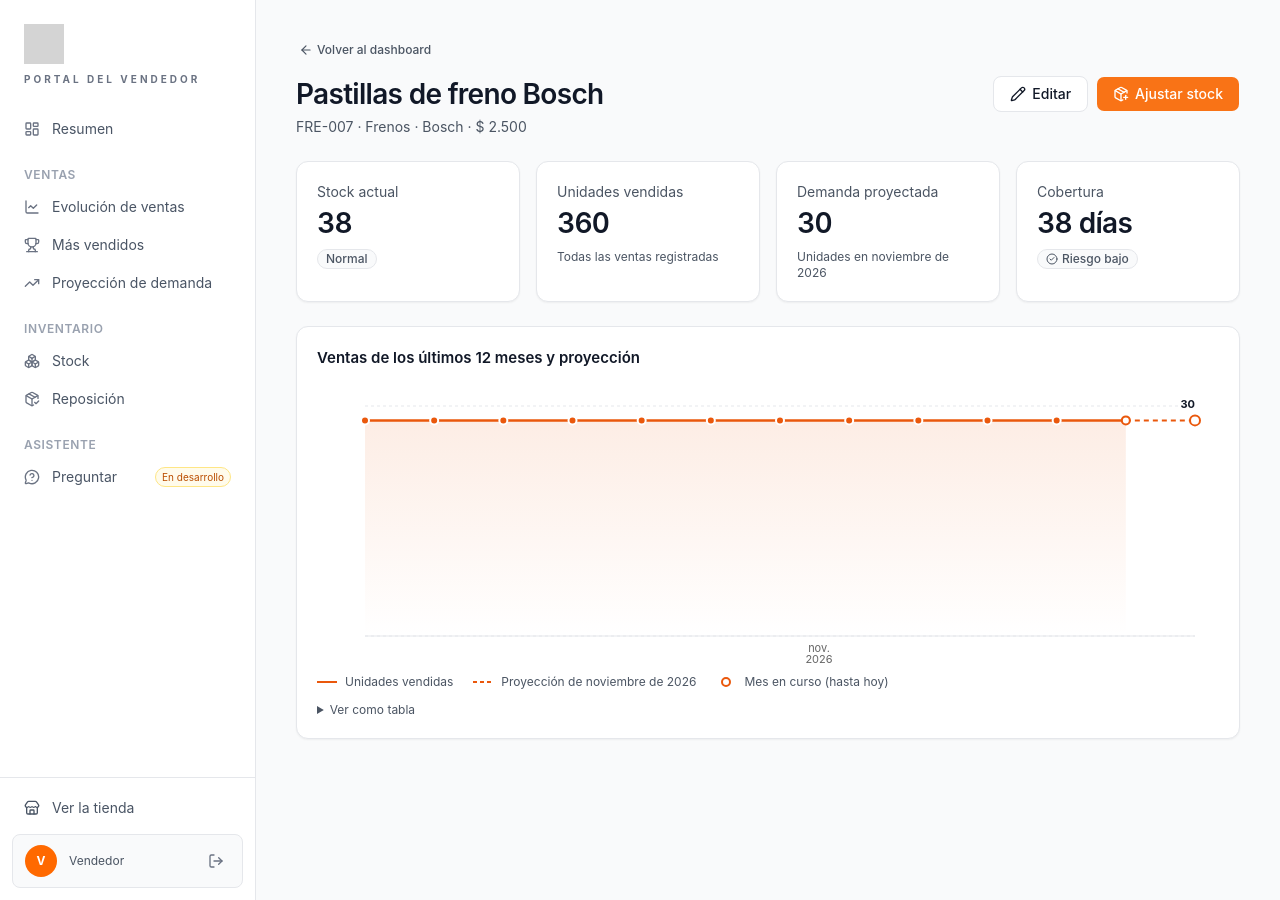
adjusts the stock from 38 to 50 and reloads the part
Click the button "Ajustar stock".
click(1168, 94)  # box [1096,76,1240,112]
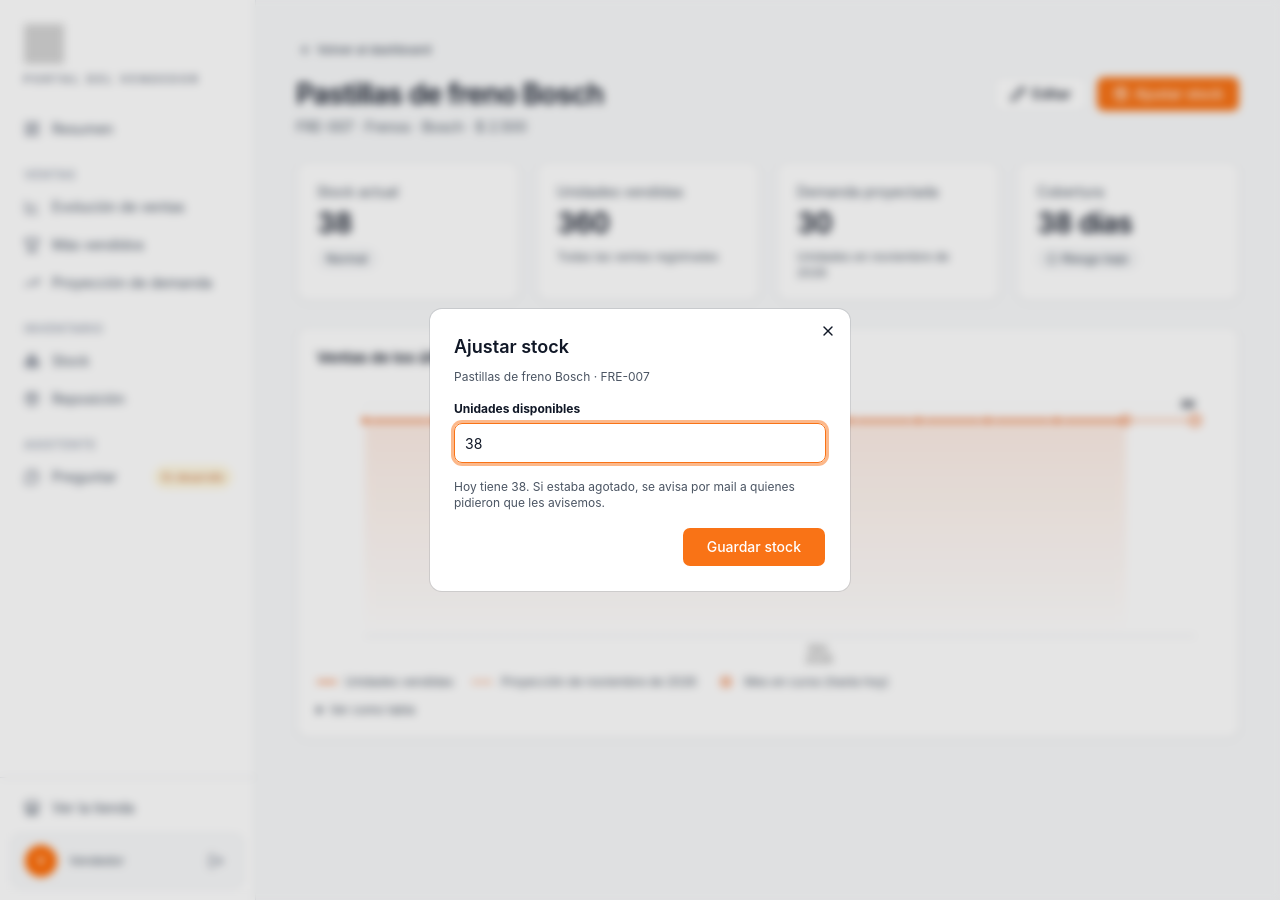
Check: the field labelled "Unidades disponibles" holds "38"
Replace the text in the field labelled "Unidades disponibles" with "50" at (640, 443), box [454,423,826,463]
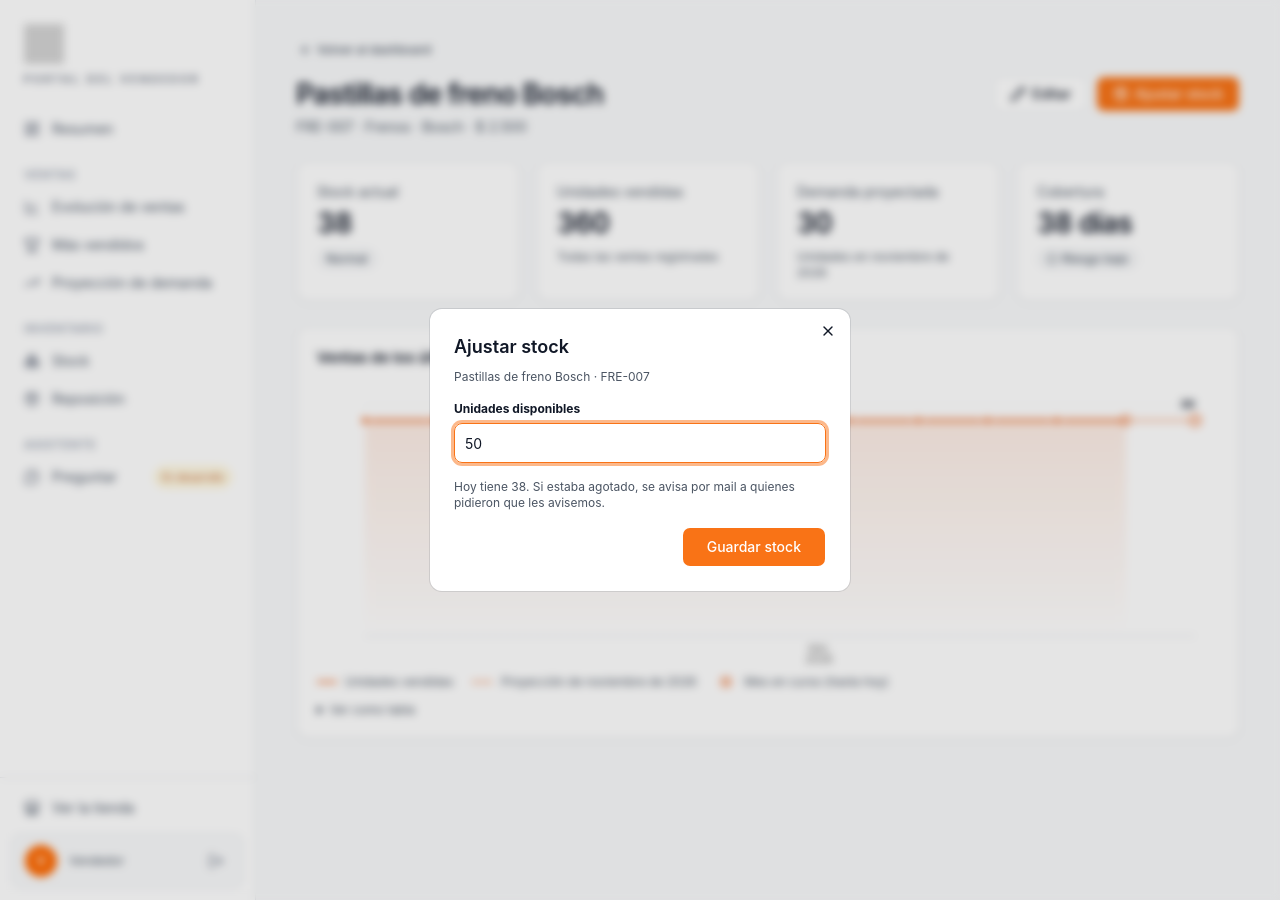
Click the button "Guardar stock".
click(754, 547)  # box [682,527,826,567]
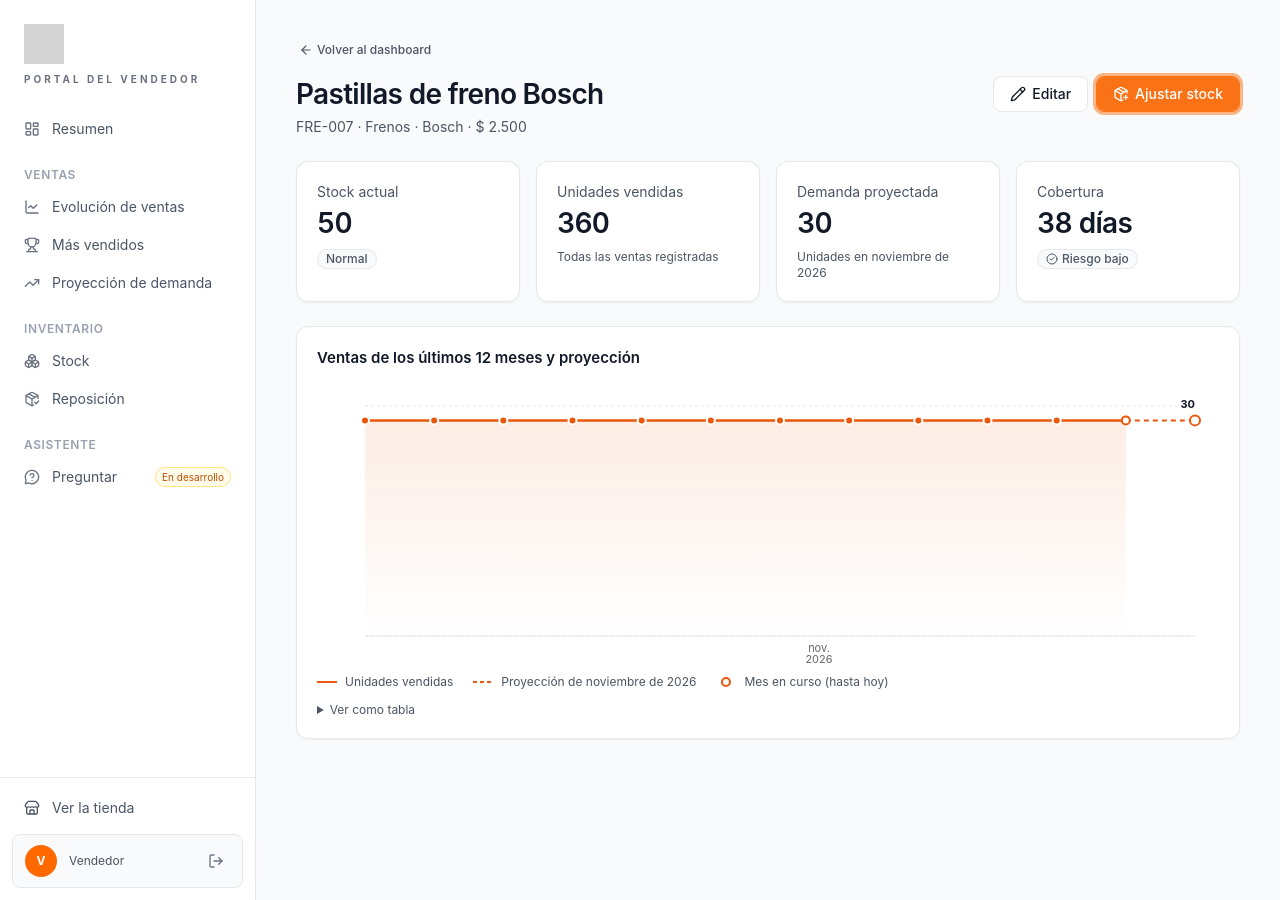
Check: the dialog is gone
